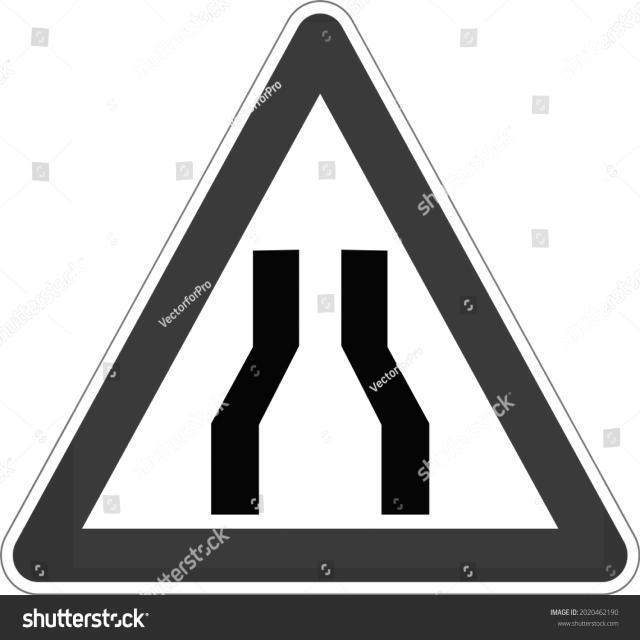narrow road ahead: (16, 12, 626, 580)
